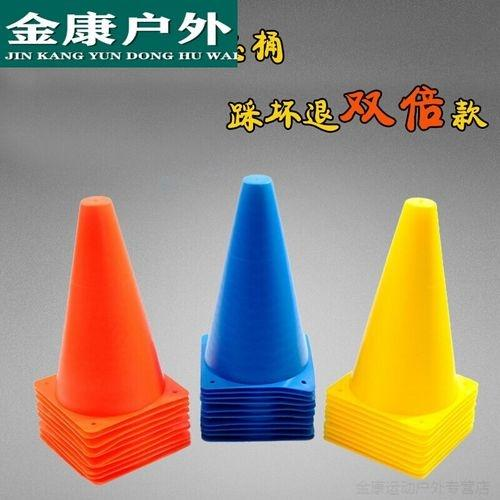cone_barrel: (36, 195, 183, 423), (332, 199, 481, 418), (201, 175, 312, 387)
